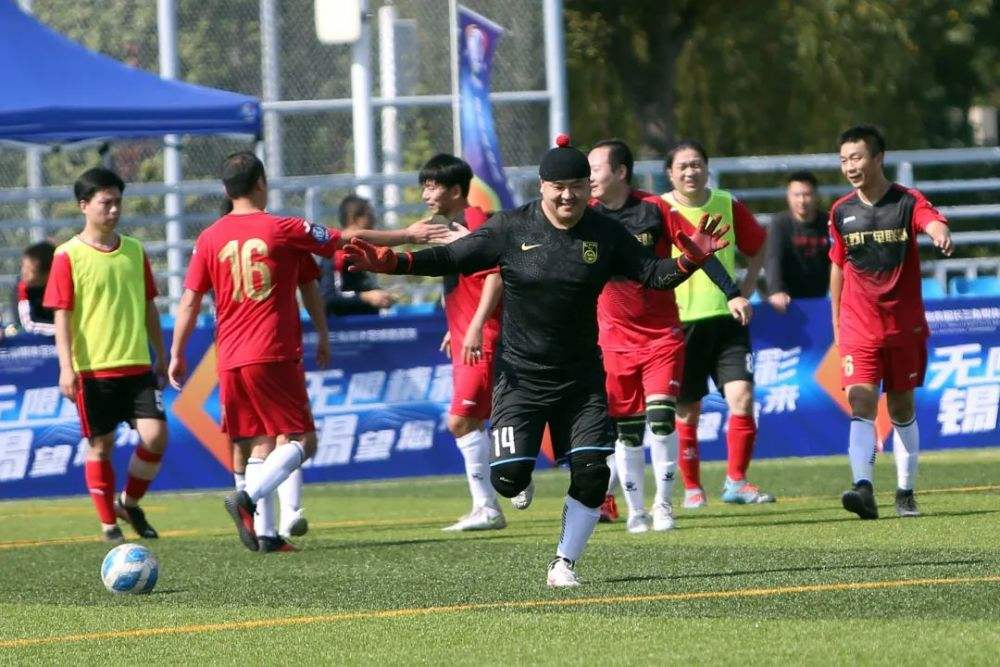football: (98, 544, 158, 598)
